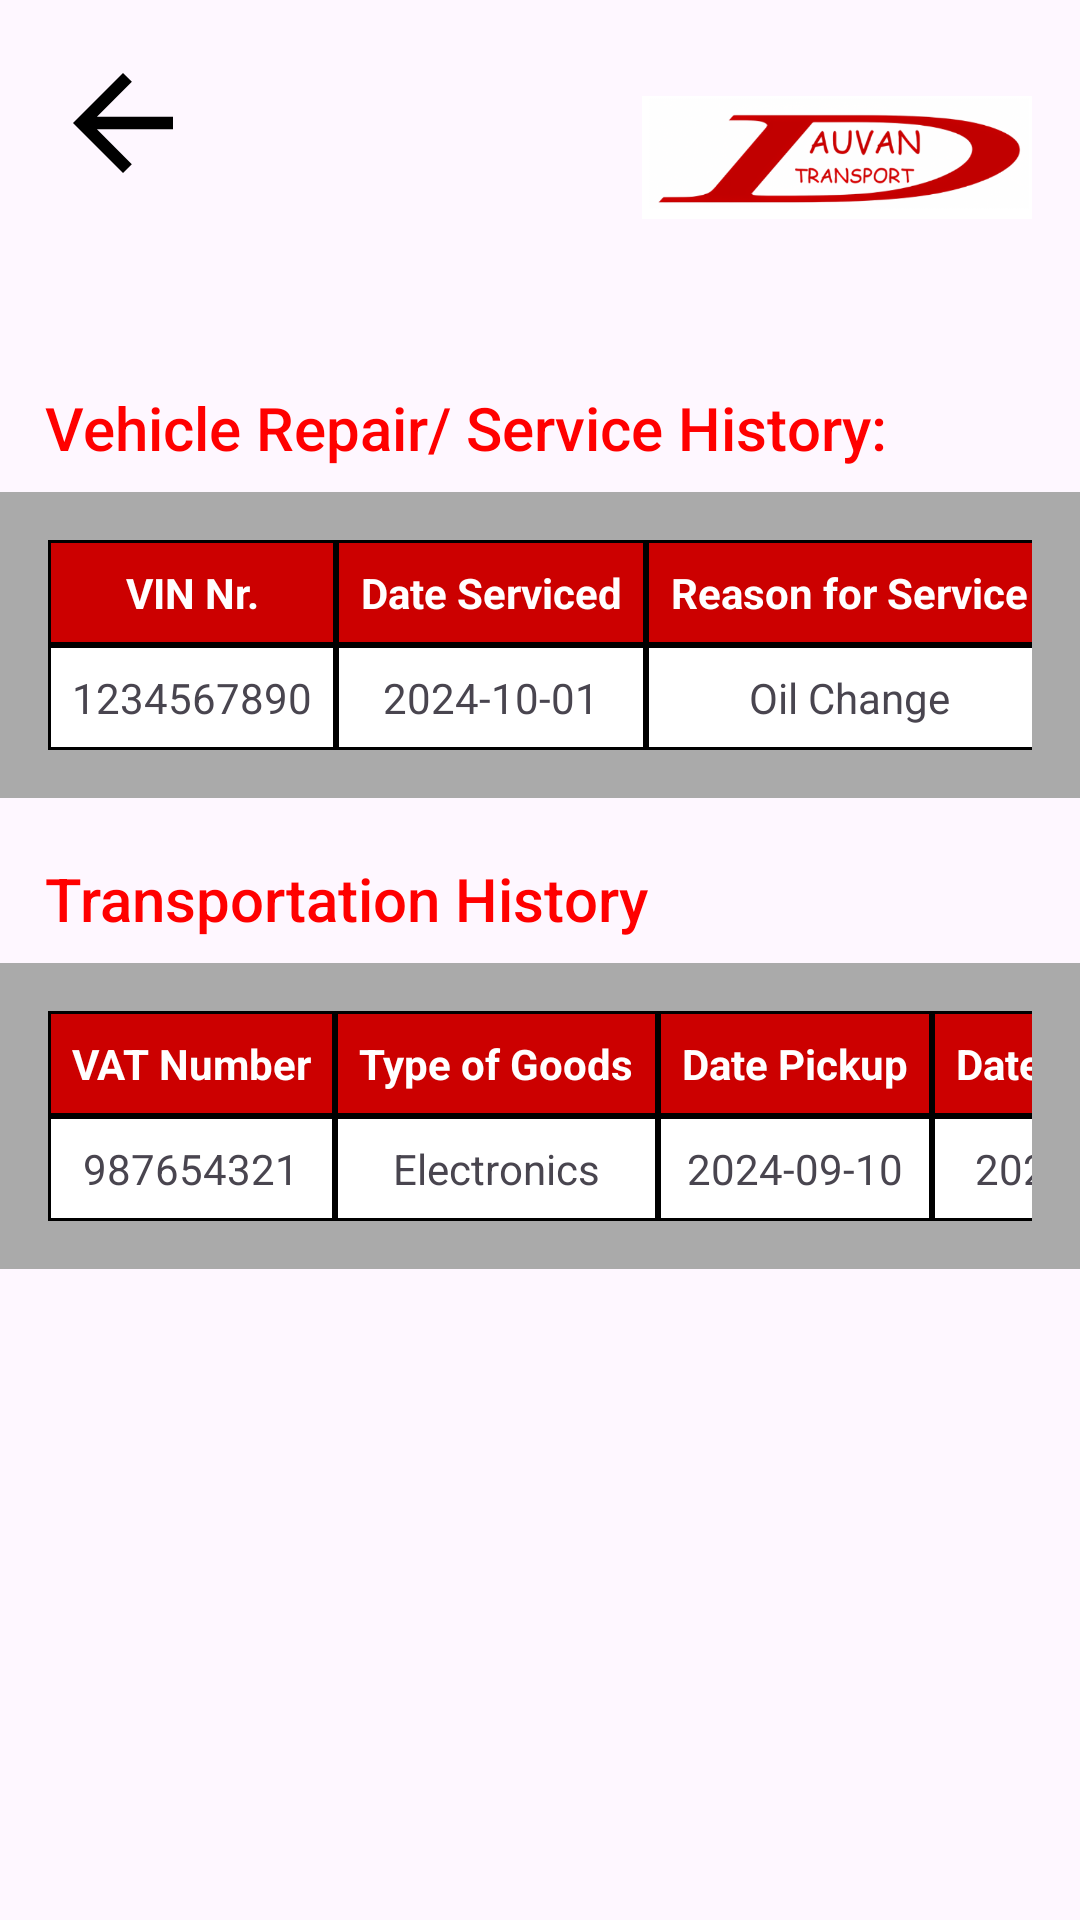

Icons on this 1080px x 1920px Android screen, each with the point to tap as (x=x, y=y):
back arrow: (x=123, y=123)
